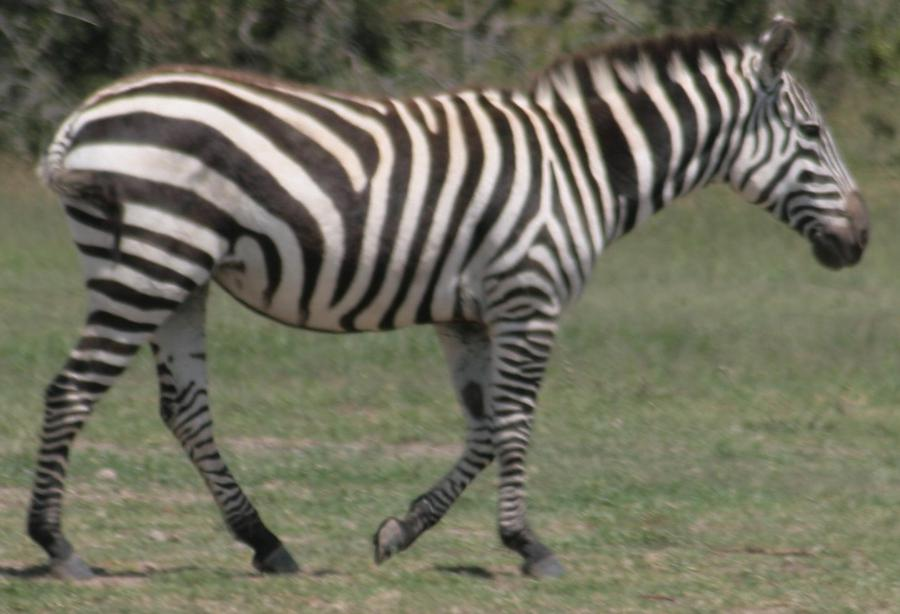zebra_plains: (31, 29, 611, 349)
